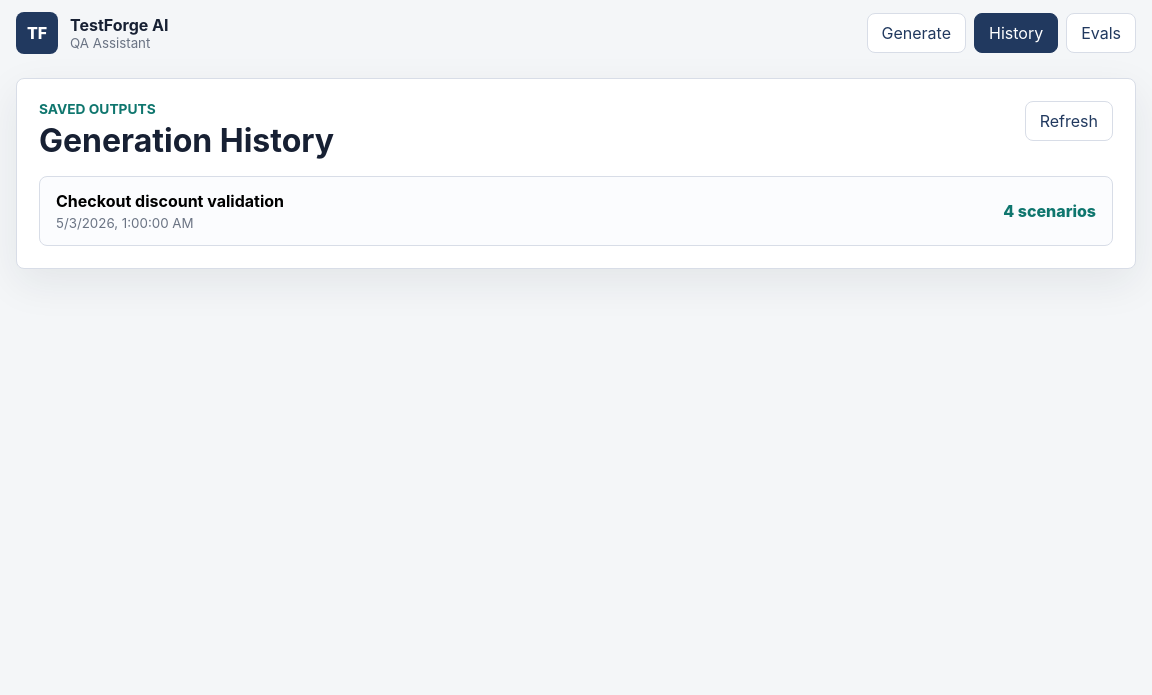
it: App › loads history and opens a saved generation
The image size is (1152, 695).
Expected: the text "Checkout discount validation" is shown, 56,191 -> 284,211
What coordinates should you click on to do the following:
click the button "Checkout discount validation"
I would click on:
 (170, 201)
Its box is 39,176 -> 1113,246.
(page scrolled)
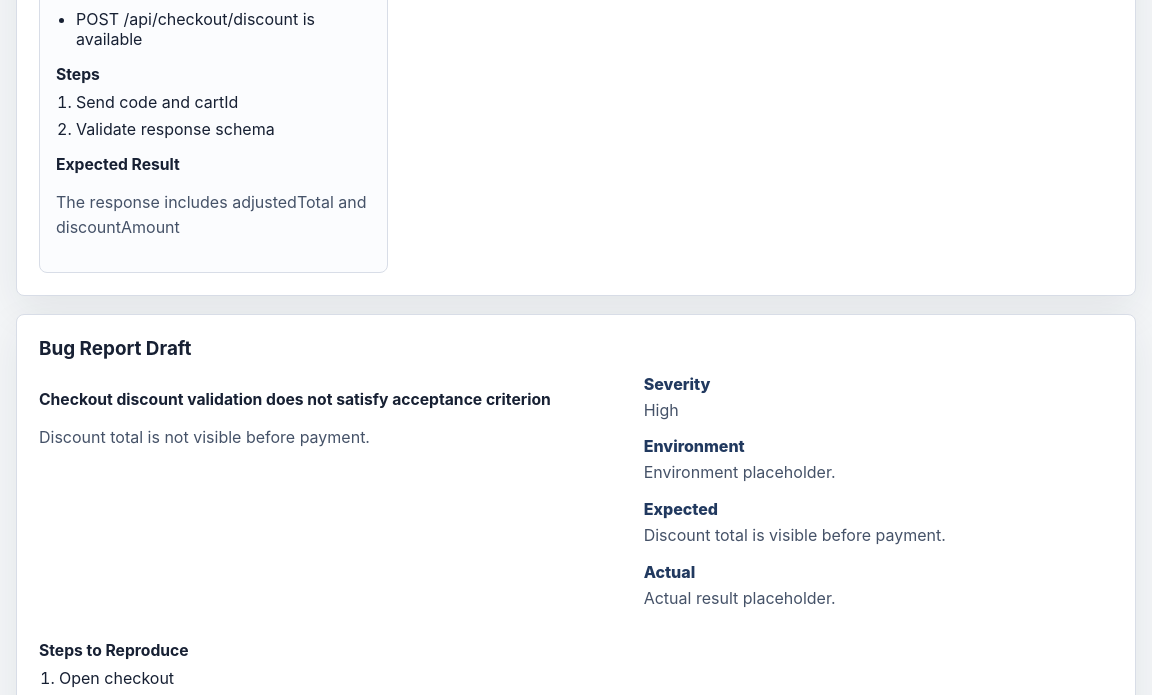
Now the heading "Bug Report Draft" is shown, box 39,337 -> 192,360
